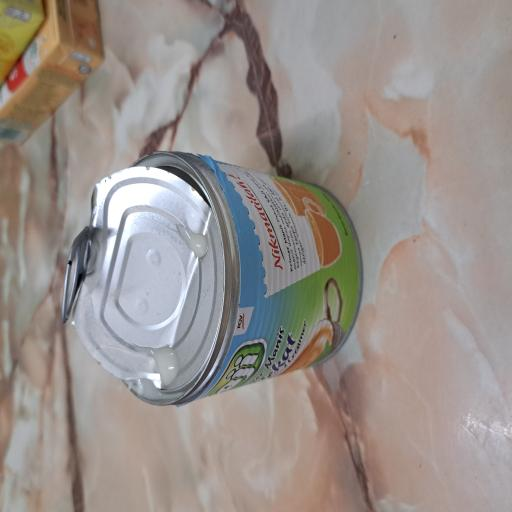can: (80, 95, 270, 484)
drink carton: (276, 0, 384, 143)
pop tab: (141, 82, 215, 126)
